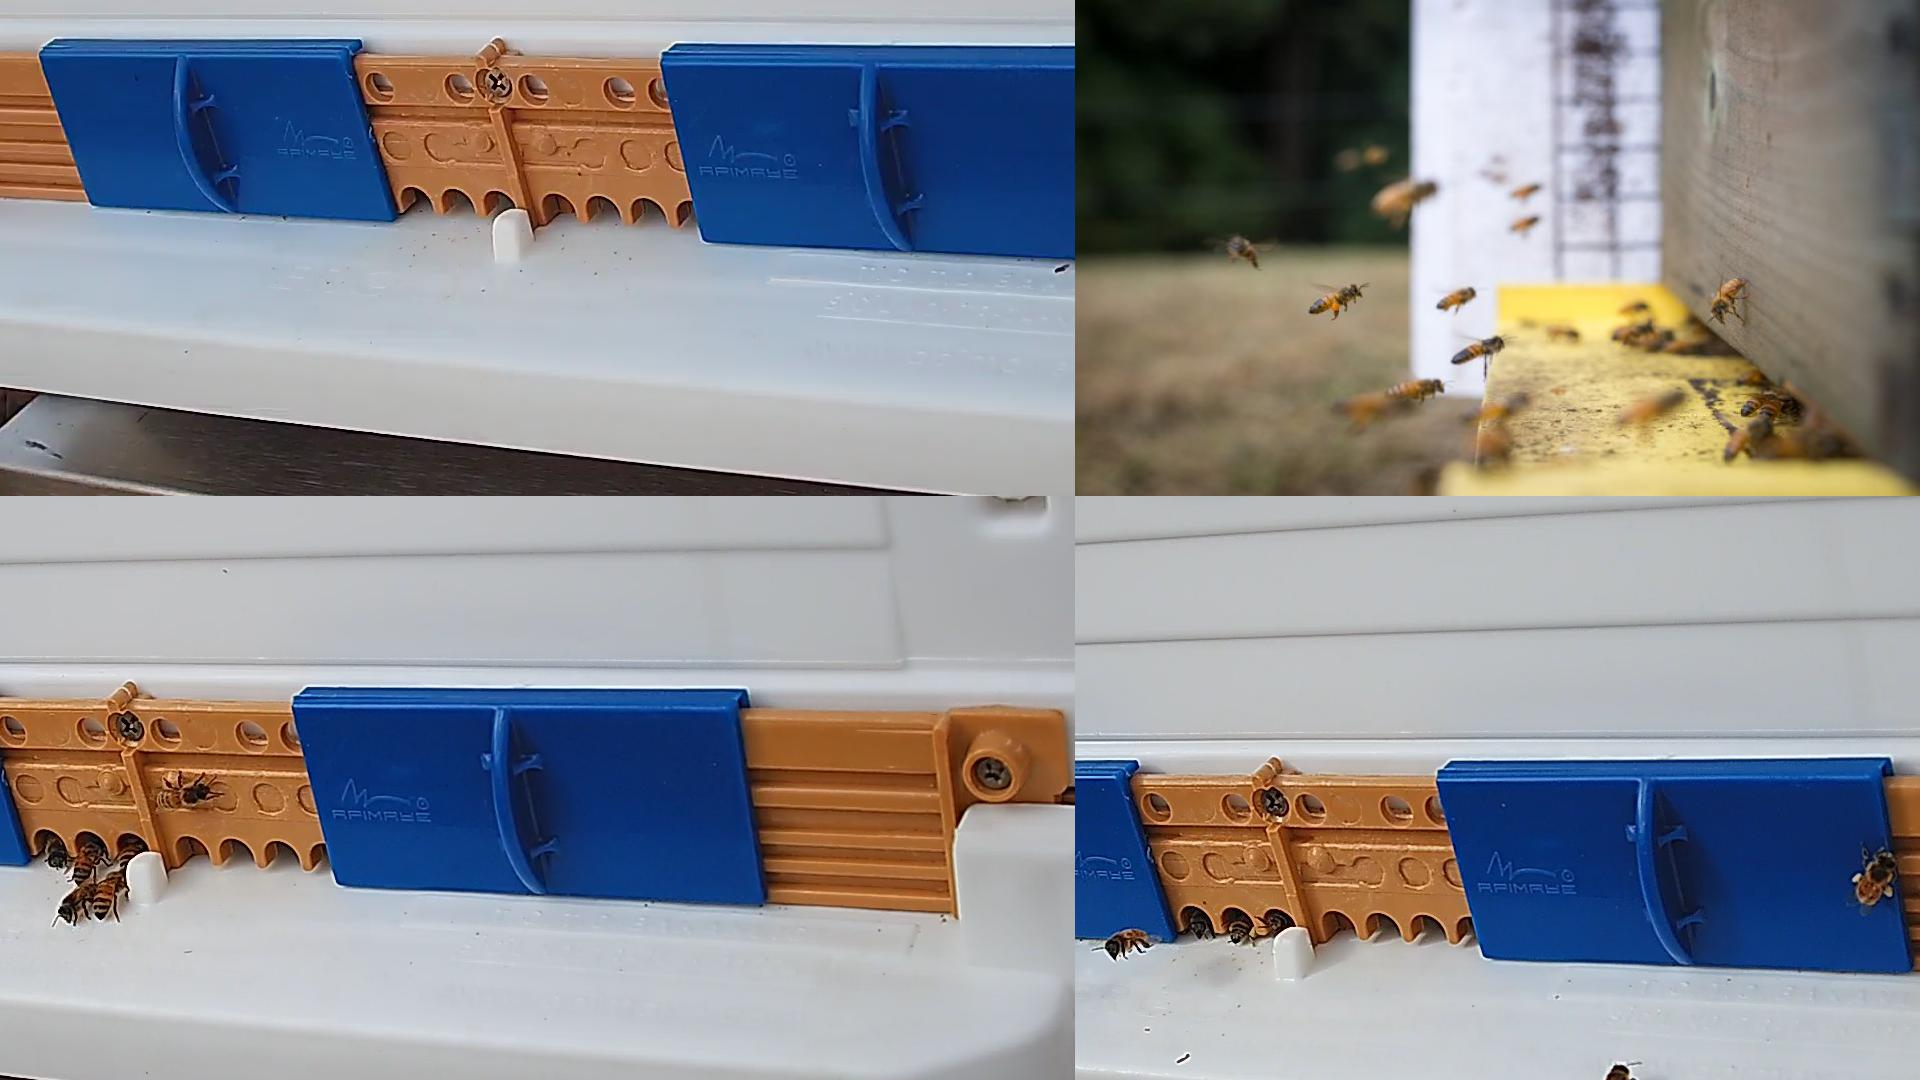bee: (1462, 394, 1532, 423), (153, 781, 215, 812), (1377, 179, 1433, 214), (1452, 335, 1506, 367), (1331, 393, 1411, 414), (91, 872, 125, 919), (57, 885, 99, 923), (1626, 392, 1684, 419), (1712, 277, 1745, 320), (73, 839, 105, 882), (1105, 927, 1150, 959), (1729, 426, 1768, 460), (1758, 393, 1796, 425), (1385, 381, 1445, 400), (42, 825, 66, 866), (117, 839, 142, 877), (1188, 903, 1212, 942), (1266, 903, 1292, 936), (1229, 906, 1251, 944), (1439, 286, 1476, 309), (1741, 389, 1774, 414), (1611, 323, 1652, 342), (1229, 239, 1261, 261), (1598, 1062, 1639, 1079), (1642, 331, 1675, 351), (1513, 182, 1540, 199), (1511, 215, 1539, 229), (1669, 342, 1701, 353), (1549, 327, 1580, 339), (1621, 305, 1647, 315)
pollenbee: (1855, 849, 1895, 905), (1308, 284, 1364, 315)
